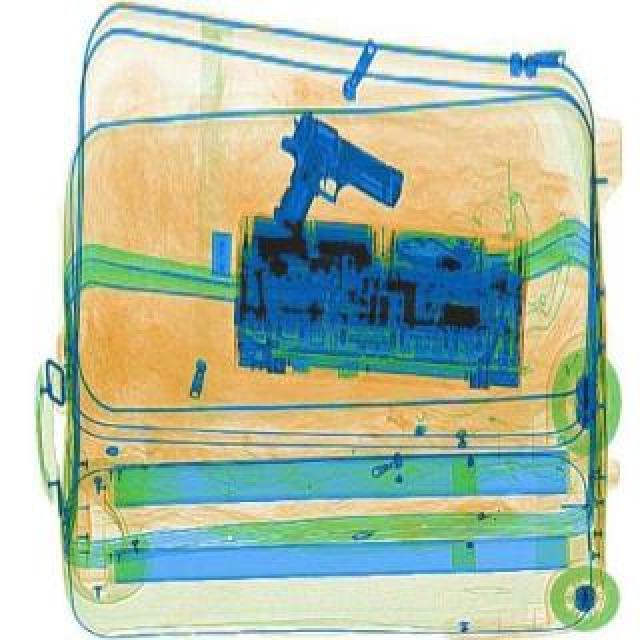gun: (236, 104, 418, 266)
